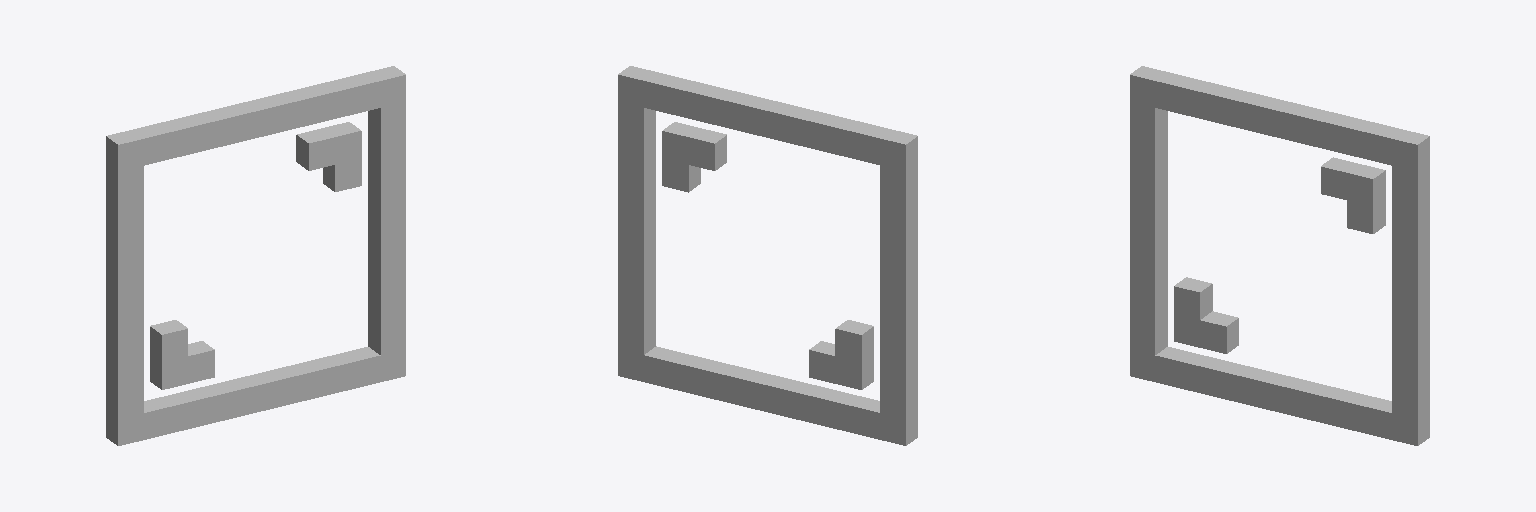
File: fullscreen.obj
3 views of the same model, side by side, from view 1: azimuth 30°, elevation 25°; view 2: azimuth 150°, elevation 25°; view 3: azimuth 330°, elevation 25° (orthographic).
Parts seen in each view (by area): view 1: Cube.002; view 2: Cube.002; view 3: Cube.002.
Boxes of the visible parts, x1=… form: Cube.002: x1=106, y1=66, x2=405, y2=445; Cube.002: x1=618, y1=66, x2=917, y2=445; Cube.002: x1=1130, y1=66, x2=1429, y2=445.
Bounding box in the file's own units: 2 × 2 × 0.1507.